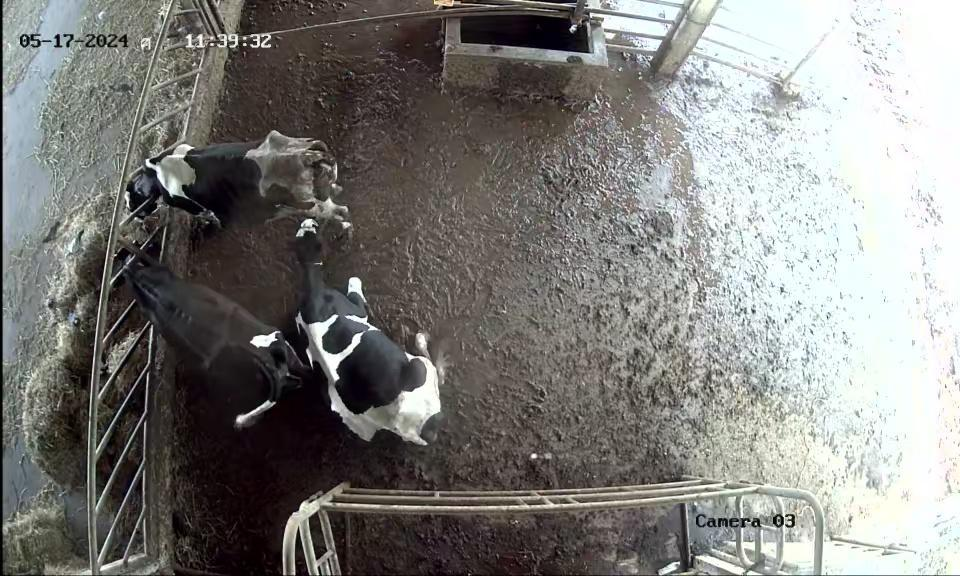eat: (98, 151, 211, 228), (82, 235, 172, 305)
lay: (281, 217, 483, 462)
